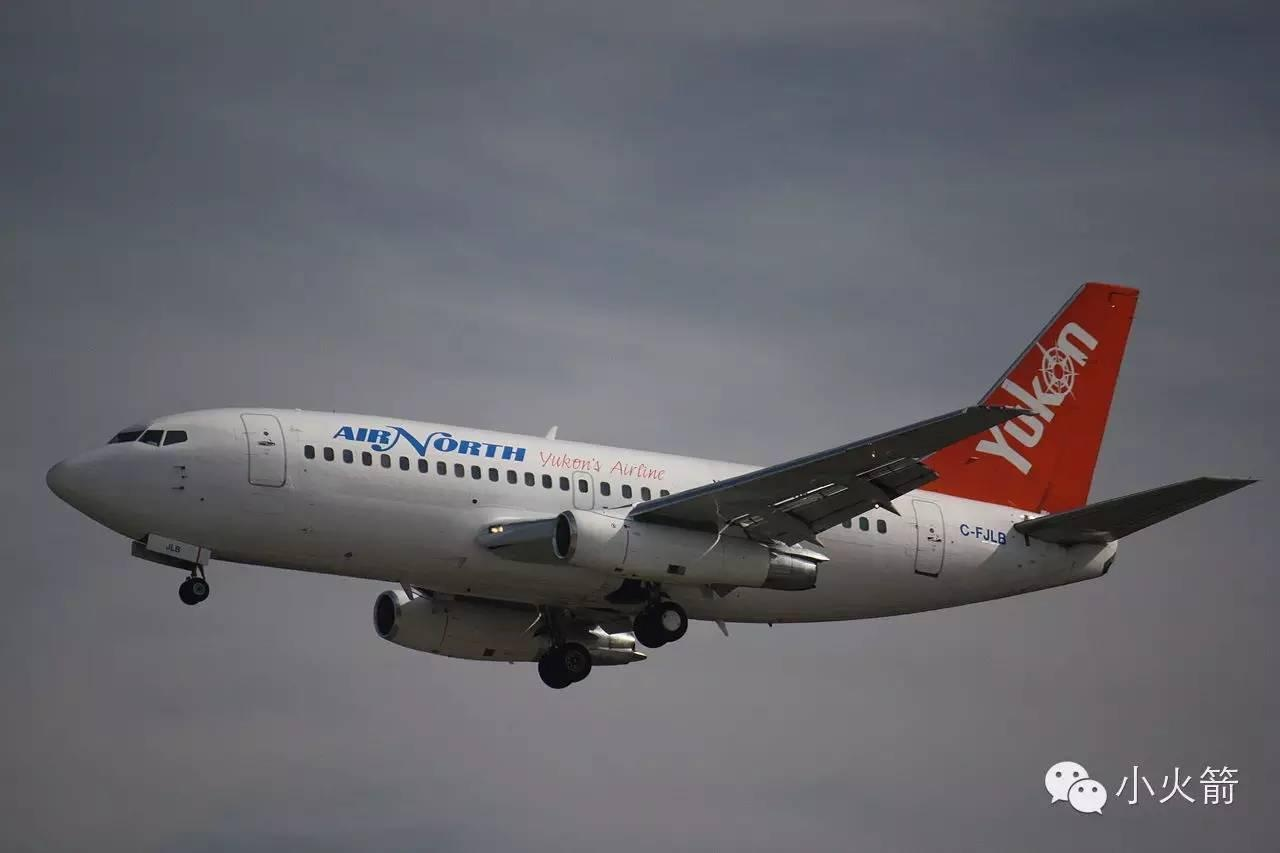airplane: (38, 276, 1268, 681)
